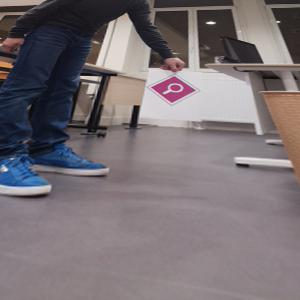medium: (261, 89, 300, 171)
